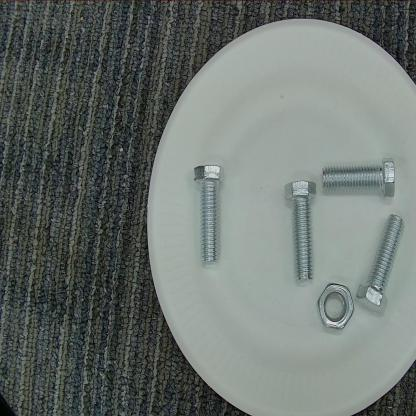FOD: (180, 160, 230, 276), (358, 208, 404, 322), (318, 148, 400, 204), (282, 178, 318, 288), (314, 272, 358, 336)
